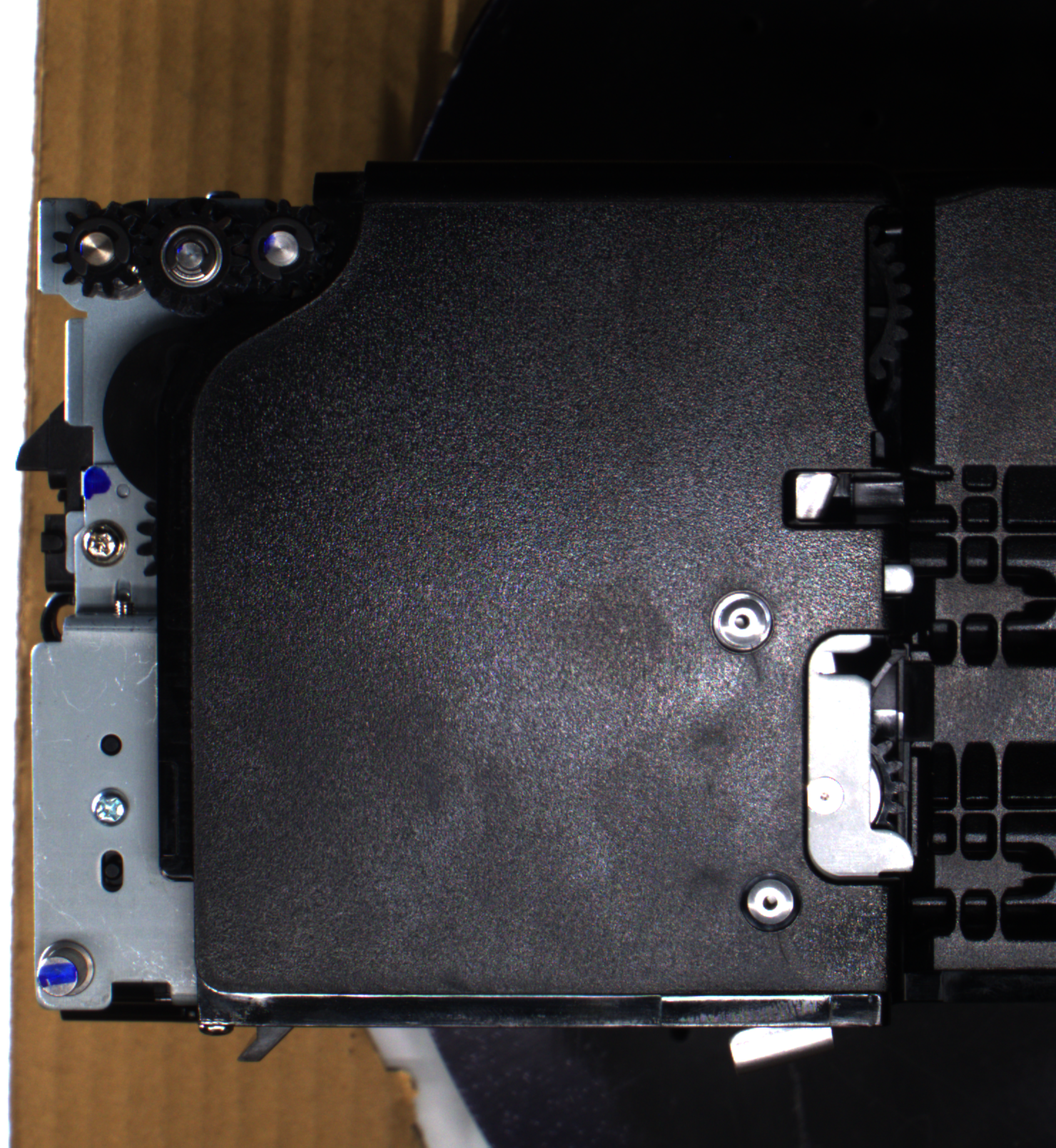centre_pin_presence: (721, 1010, 838, 1075)
centre_plate_presence: (795, 622, 922, 890)
centre_screw_presence: (706, 583, 778, 659), (734, 864, 805, 937)
gear1_presence: (50, 197, 151, 305)
gear2_presence: (134, 196, 249, 318)
gear3_presence: (232, 198, 332, 303)
side_screw_presence: (77, 517, 129, 568), (87, 785, 132, 828)
slanting_pin_presence: (31, 935, 103, 1005)
